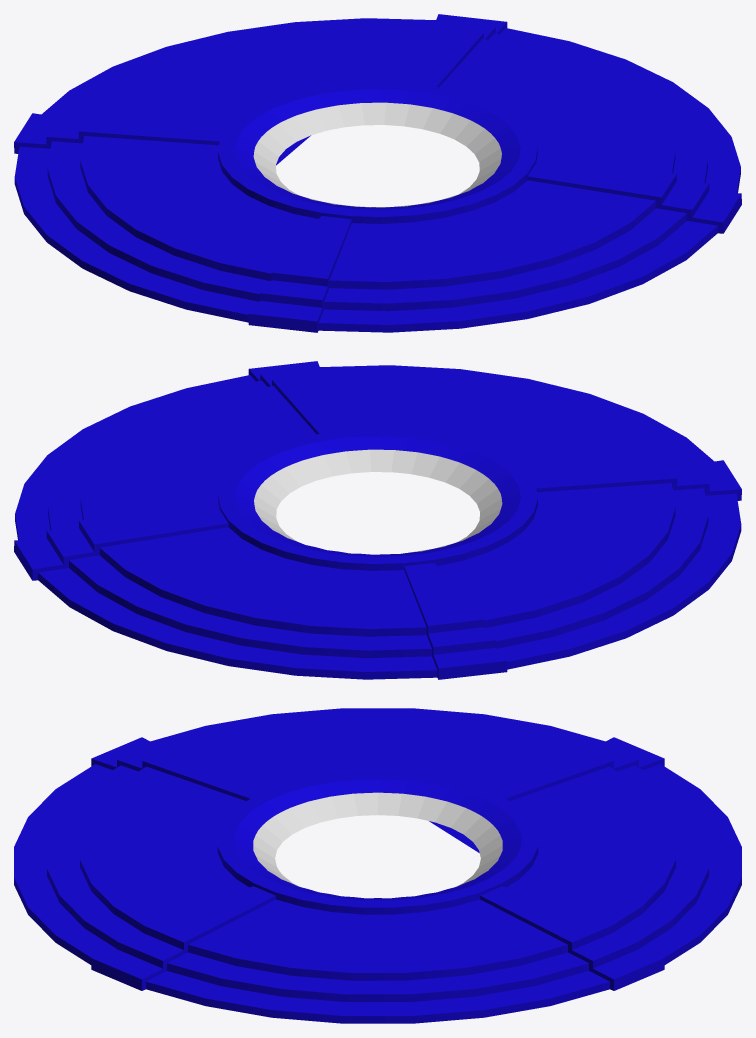
Rendered from circlePlatform.fbx.
3 renders of one model, top to bottom at view 1: azimuth 30°, elevation 25°; view 2: azimuth 150°, elevation 25°; view 3: azimuth 270°, elevation 25°, orthographic.
Parts seen in each view (by area): view 1: obelisk_plate; view 2: obelisk_plate; view 3: obelisk_plate.
Boxes of the visible parts, left/top/right/bottom form: obelisk_plate: left=14, top=14, right=741, bottom=332; obelisk_plate: left=14, top=361, right=741, bottom=679; obelisk_plate: left=14, top=708, right=741, bottom=1023.
Bounding box in the file's own units: 2584 × 117 × 2584.
